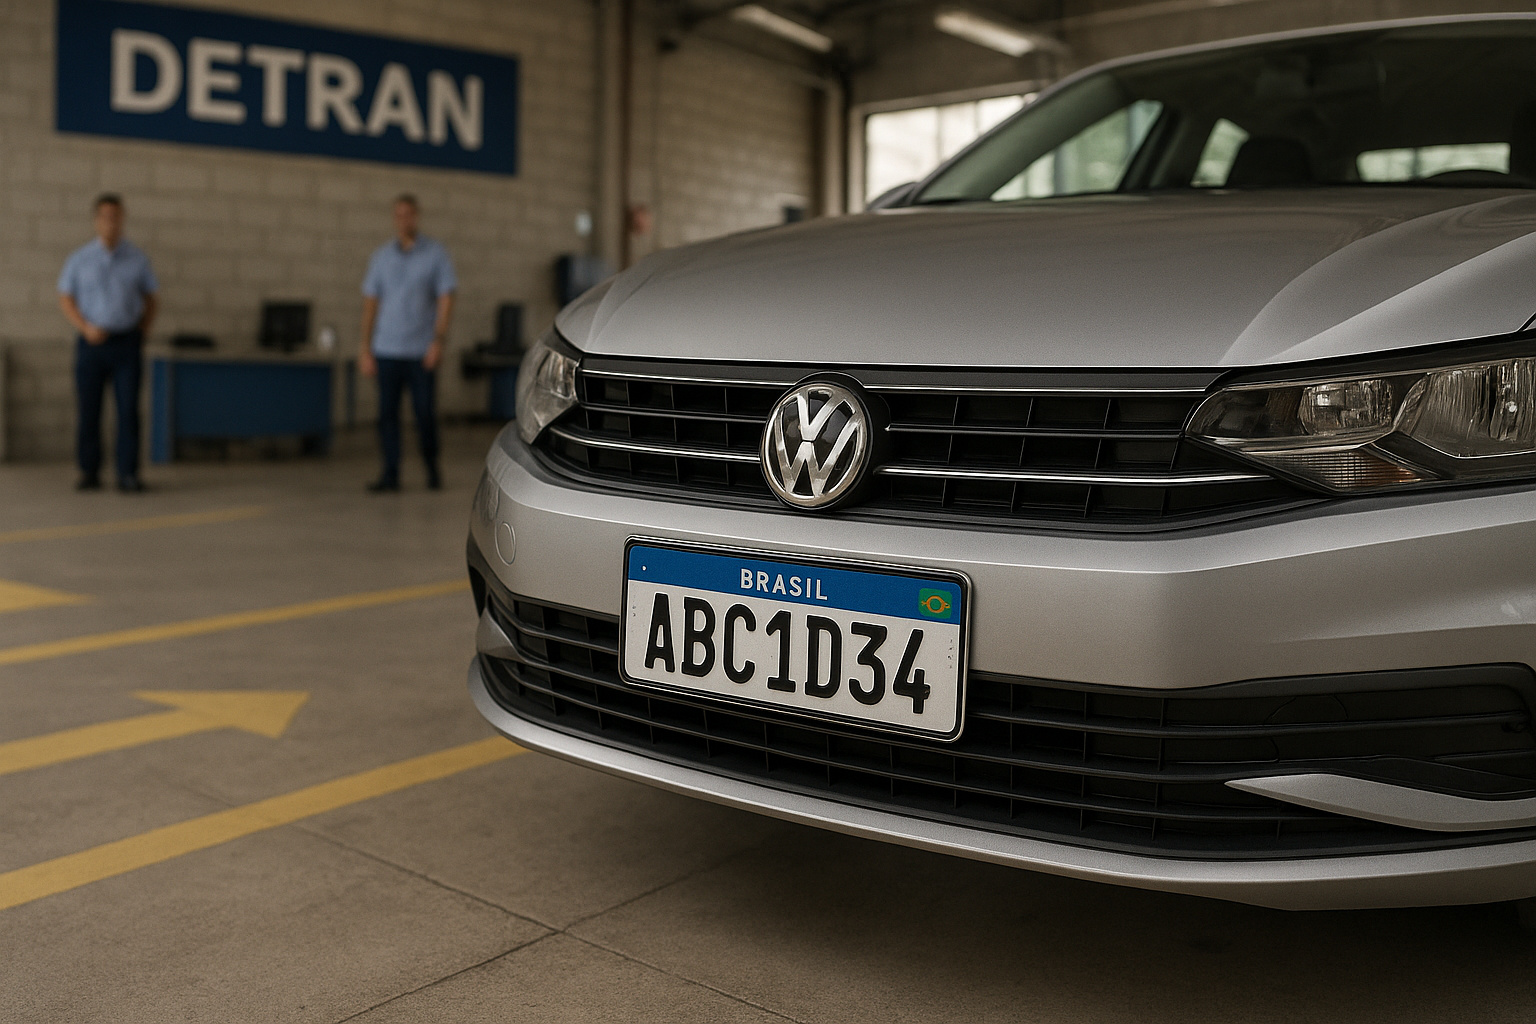car: (461, 0, 1536, 943)
car_plate: (624, 533, 984, 695)
